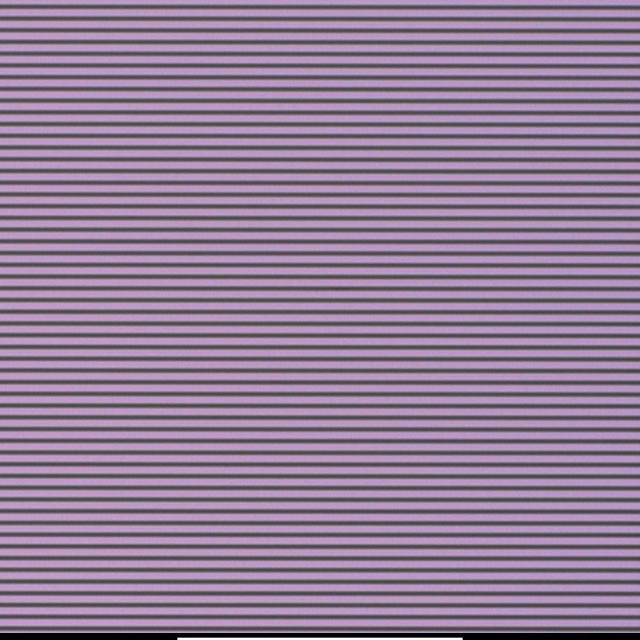nonvisual: (299, 302, 307, 312)
